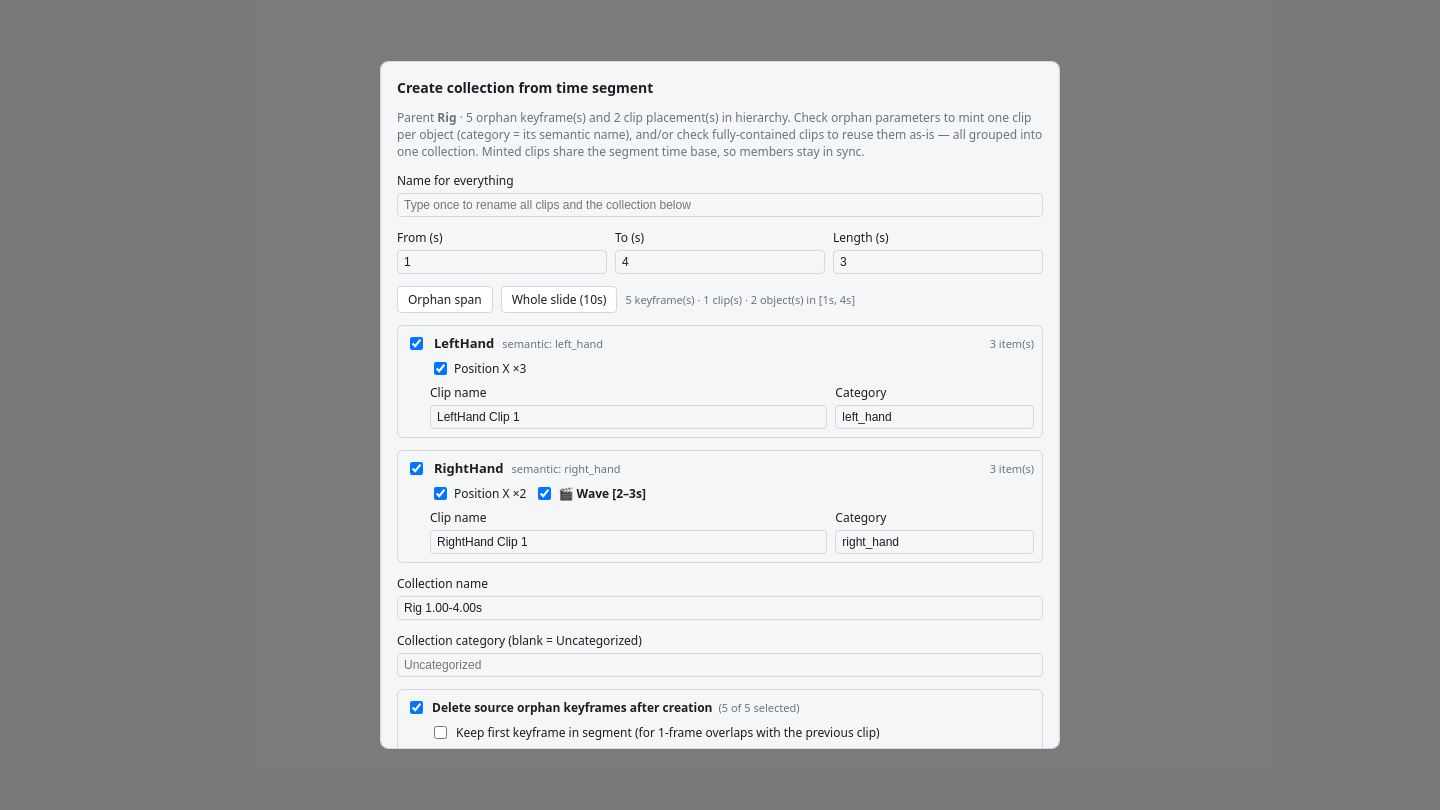
Test: TimeSegmentToCollectionModal › lists fully-contained clips among checkboxes, hides exceeding ones
Expected: the element with test id "segment-object-nB" is shown, [397,450,1043,563]
Expected: the checkbox with test id "segment-clip-inst1" is shown, [538,487,552,500]
widening To to 7 reveals the second clip
Step 1. Replace the text in the field with test id "segment-to-input" with "7" → (720, 262), box [615,250,825,274]
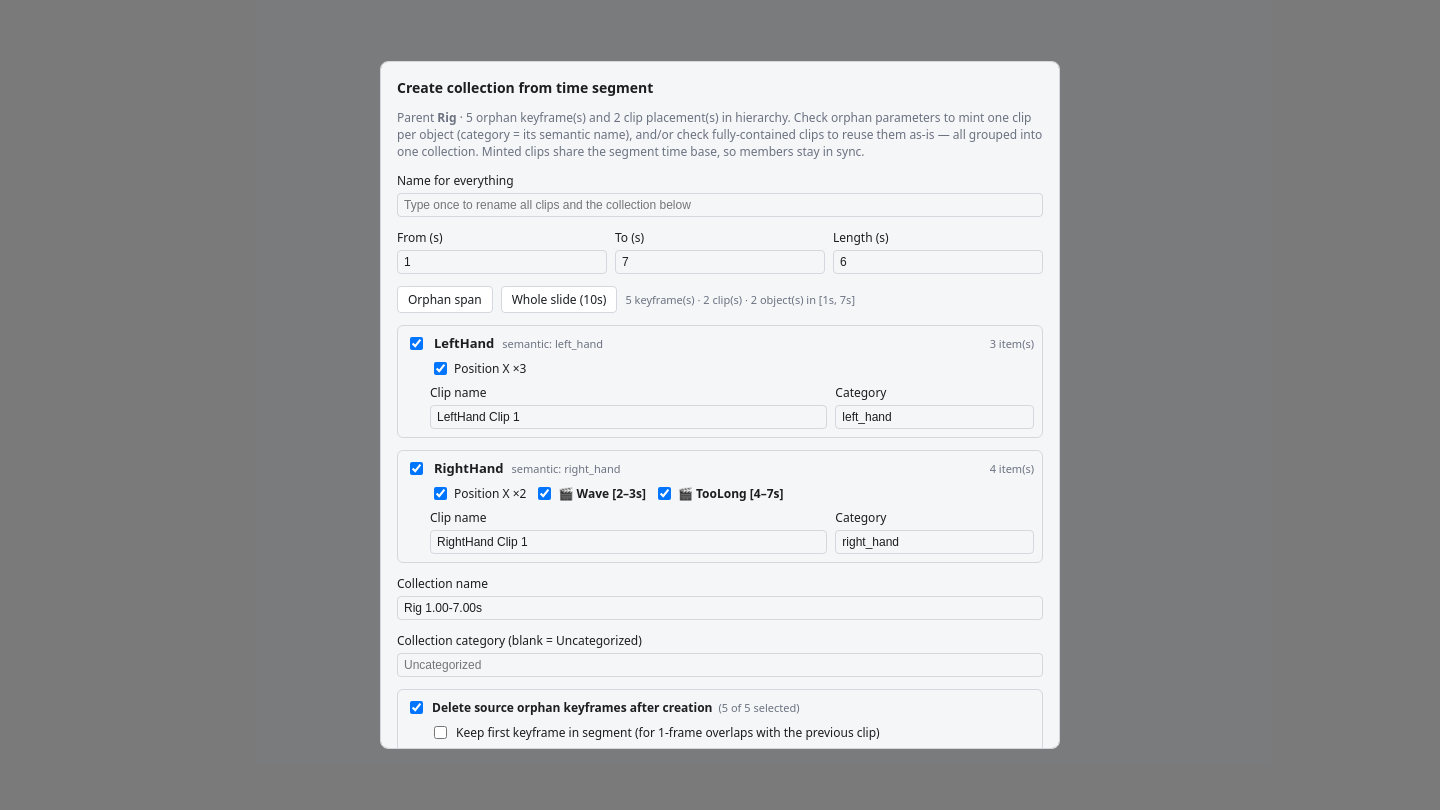
Expected: the checkbox with test id "segment-clip-inst2" is shown, [658,487,671,500]
